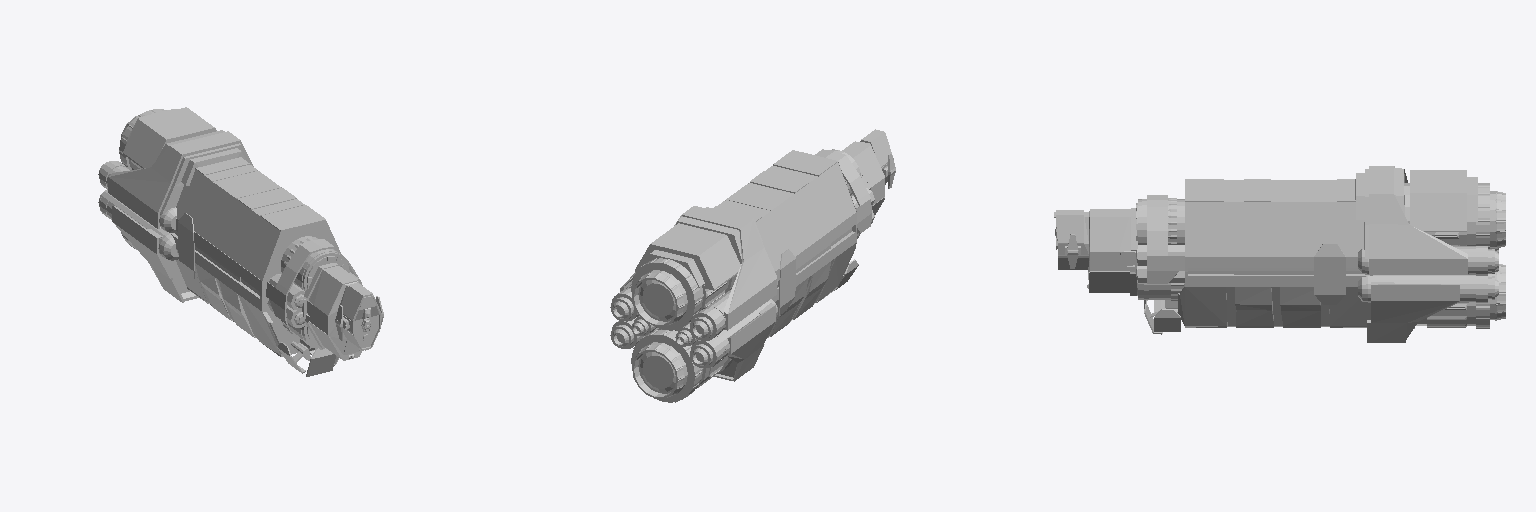
The model's file is pillar of autumn.obj.
The picture shows the model from 3 angles: view 1: azimuth 30°, elevation 25°; view 2: azimuth 150°, elevation 25°; view 3: azimuth 270°, elevation 25°; orthographic projection.
Parts seen in each view (by area): view 1: 7.0.609.0; view 2: 7.0.609.0; view 3: 7.0.609.0.
Part boxes in pixels (left/top/right/bottom): 7.0.609.0: left=98, top=107, right=383, bottom=376; 7.0.609.0: left=610, top=129, right=895, bottom=402; 7.0.609.0: left=1054, top=166, right=1505, bottom=342.
Size of the model in its own units: 8.51 by 11.5 by 31.03.